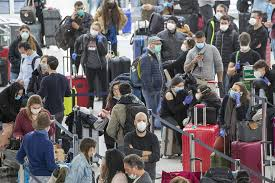mask_weared_incorrect: (124, 165, 139, 179), (112, 87, 121, 100)
with_mask: (136, 115, 147, 132), (30, 104, 44, 116), (228, 87, 240, 100), (150, 41, 164, 52), (88, 145, 99, 157), (195, 37, 206, 49), (174, 83, 186, 94), (14, 90, 24, 101), (89, 26, 100, 36), (239, 42, 250, 52), (219, 21, 229, 32), (248, 15, 258, 26), (214, 9, 224, 20), (253, 67, 264, 77), (195, 88, 204, 100), (40, 59, 48, 72), (19, 48, 27, 59), (75, 6, 84, 15), (167, 20, 176, 29), (21, 29, 29, 39), (105, 1, 117, 7)
